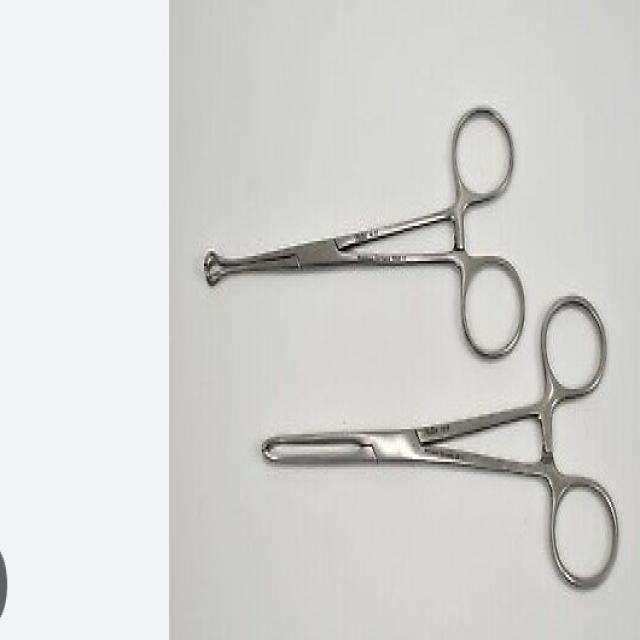Allis Forceps: (261, 281, 622, 598)
Babcock Forceps: (202, 98, 528, 362)
